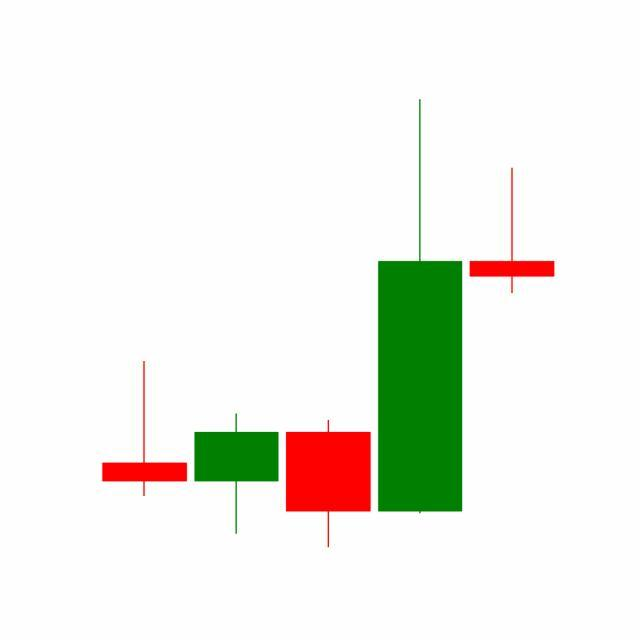Spinning Top: (466, 167, 559, 296)
